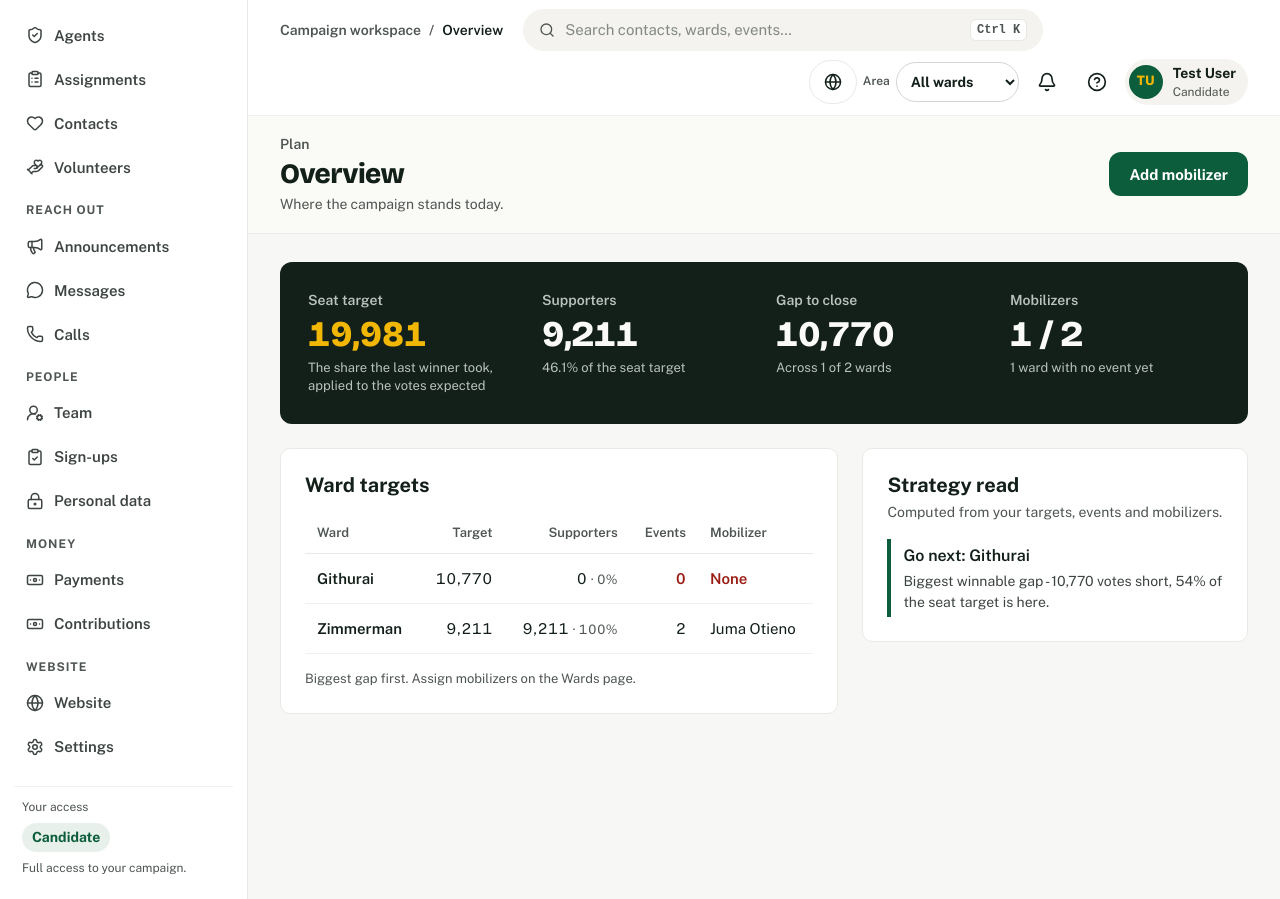
Test: payments › offers a failed payment for retry and lists differences with the payout provider
The image size is (1280, 899).
(page scrolled)
What coordinates should you click on to do the following:
click the link "Payments"
I would click on:
 (75, 580)
Its box is [26,571,124,589].
(page scrolled)
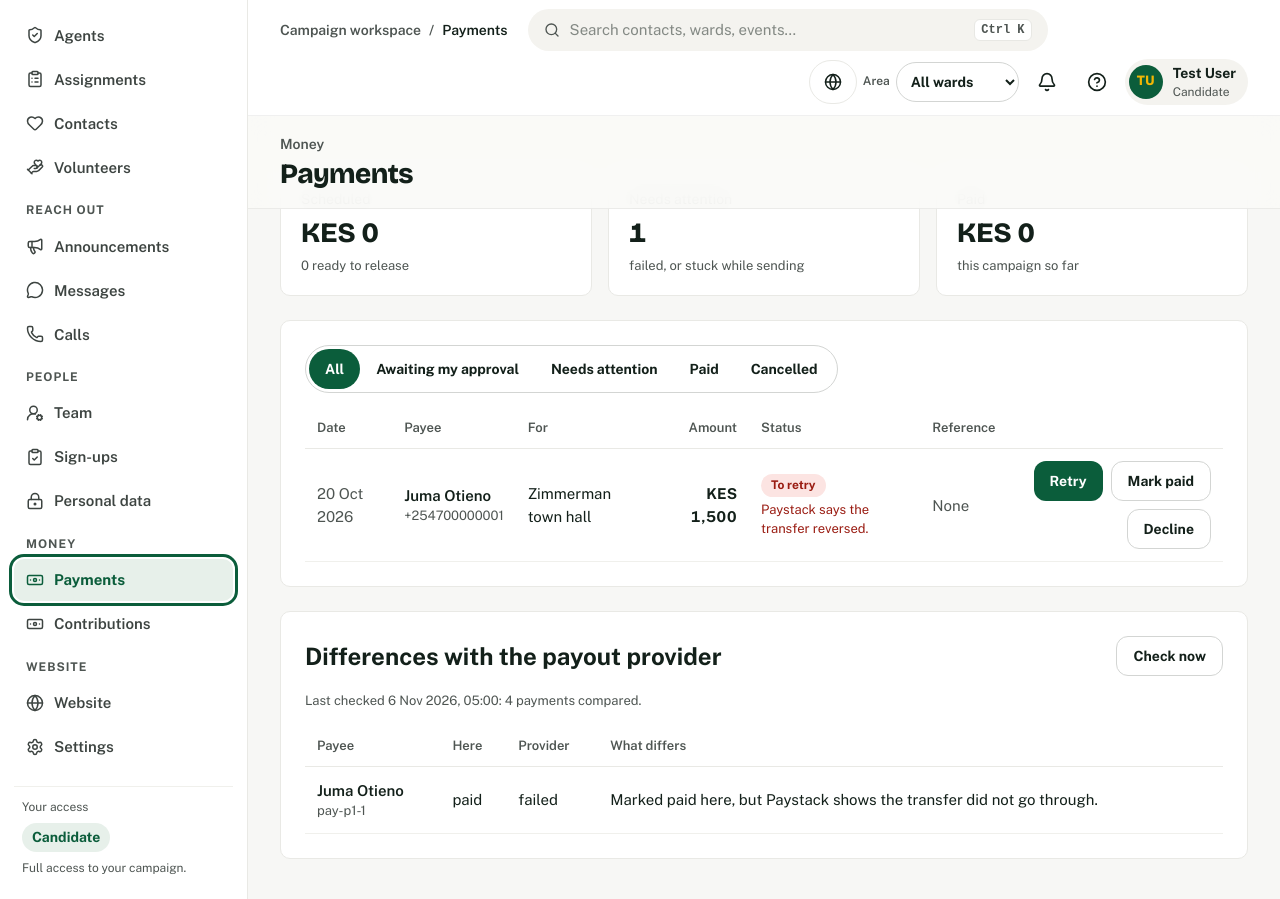
Check: the text "Juma Otieno" next to "20 Oct 2026" is shown, box [404,487,491,504]
Check: the text "To retry" is shown, box [761,474,826,497]
Check: the button "Retry" is shown, box [1034,461,1103,501]
